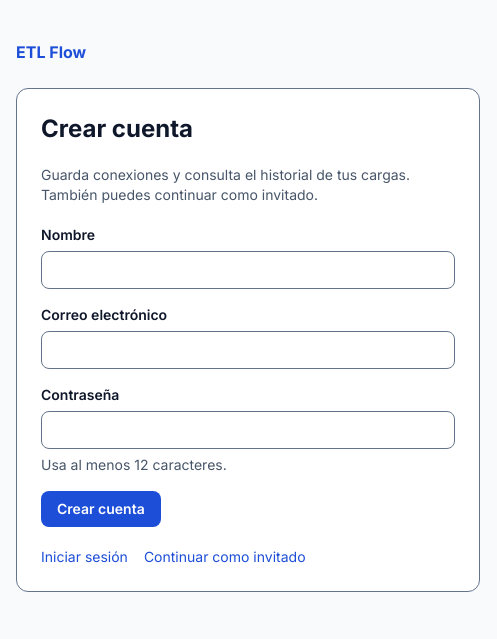
Test: account forms › confirms signup without persisting the password or assuming an active session
Type "Persona" into the field labelled "Nombre" at (248, 270), box [41, 251, 455, 289]
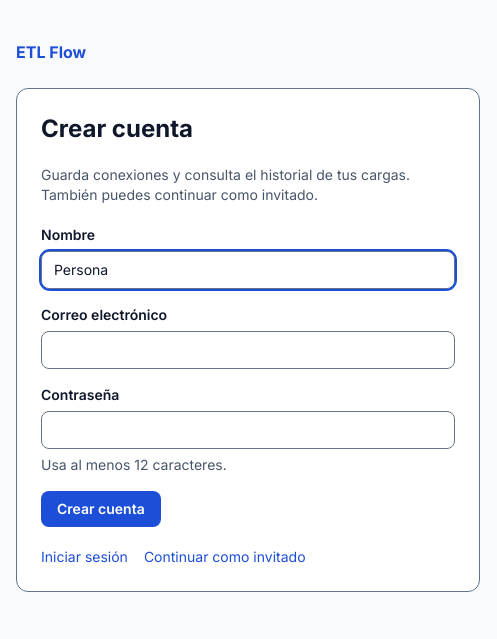
Type "person@example.com" into the field labelled "Correo electrónico" at (248, 350), box [41, 331, 455, 369]
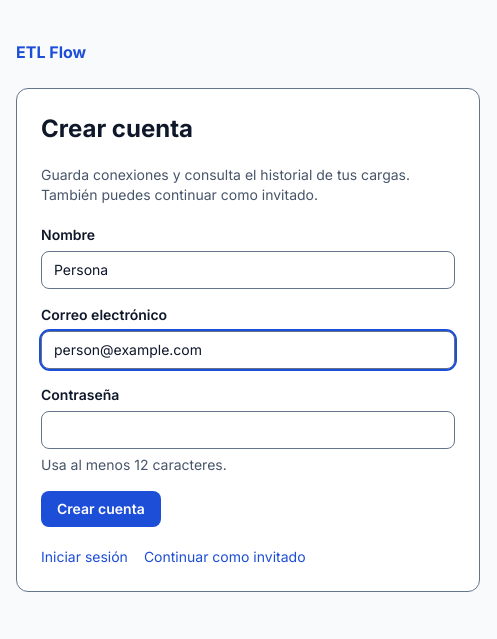
Type "synthetic-passphrase" into the password field labelled "Contraseña" at (248, 430), box [41, 411, 455, 449]
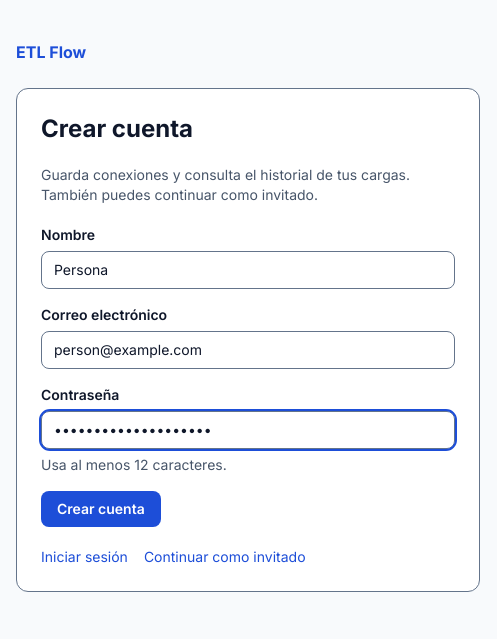
Click the button "Crear cuenta" at (101, 509), box [41, 491, 161, 527]
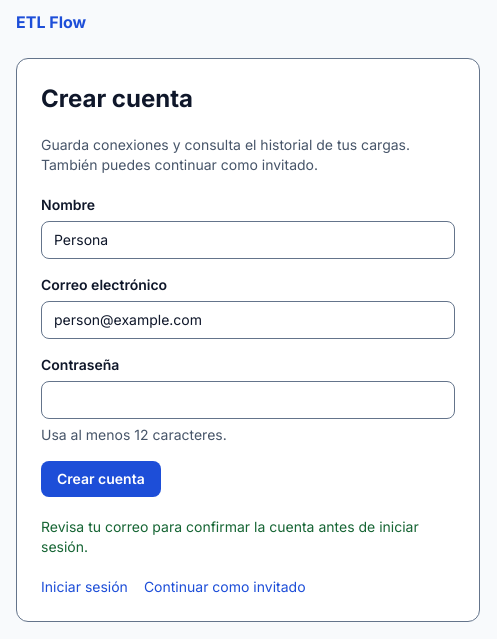
Result: the message shows "confirmar la cuenta" at [41, 518, 419, 555]
Result: the password field labelled "Contraseña" is empty at [41, 381, 455, 419]
